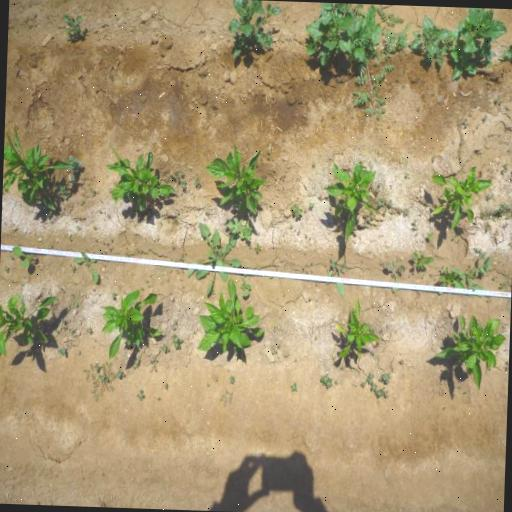plant: (430, 308, 508, 392), (2, 119, 67, 213), (195, 275, 265, 361), (104, 141, 176, 217), (202, 140, 267, 214), (323, 158, 377, 241), (99, 289, 163, 358), (428, 164, 492, 233), (0, 292, 57, 362), (332, 293, 382, 361)
weed: (350, 6, 415, 120), (298, 2, 382, 67), (446, 7, 506, 82), (186, 221, 242, 294), (218, 0, 282, 60), (407, 8, 451, 70), (450, 252, 493, 290), (83, 361, 117, 402), (326, 254, 350, 298), (73, 250, 100, 284), (226, 214, 254, 243), (438, 262, 465, 289), (60, 12, 84, 42), (384, 257, 404, 293), (12, 246, 34, 270), (410, 250, 434, 270), (499, 32, 512, 61), (66, 153, 82, 174), (239, 275, 252, 298), (218, 388, 233, 406), (371, 383, 389, 398), (319, 371, 333, 389), (172, 334, 184, 350), (290, 203, 302, 218), (496, 278, 511, 289), (498, 200, 508, 216), (378, 371, 390, 384), (474, 248, 485, 260), (134, 387, 144, 400), (374, 196, 384, 208), (56, 345, 66, 356), (365, 213, 376, 223), (132, 356, 140, 369), (115, 370, 125, 378), (288, 382, 296, 392), (366, 374, 374, 384), (426, 230, 434, 240), (228, 374, 235, 384), (180, 181, 187, 191), (502, 162, 508, 173), (62, 192, 70, 200), (70, 298, 78, 306), (110, 290, 118, 298), (150, 356, 158, 364), (254, 242, 260, 252), (172, 172, 178, 182), (194, 178, 200, 188), (463, 116, 469, 126), (58, 184, 65, 192), (160, 344, 168, 351), (270, 348, 277, 356), (410, 223, 418, 230), (68, 326, 74, 335), (68, 175, 75, 182), (97, 374, 104, 381), (74, 224, 81, 231), (88, 186, 94, 194), (94, 364, 100, 372), (308, 201, 314, 209), (310, 160, 316, 168), (402, 208, 408, 216), (484, 223, 490, 231), (388, 197, 392, 208), (178, 169, 184, 176), (359, 382, 366, 388), (370, 350, 376, 357), (372, 186, 379, 192), (380, 209, 386, 216), (482, 113, 488, 120), (503, 220, 508, 228), (268, 274, 274, 280), (486, 193, 492, 199), (2, 264, 7, 271), (266, 148, 269, 159), (272, 324, 276, 332), (334, 378, 338, 386), (86, 326, 91, 332), (211, 288, 216, 294), (340, 364, 346, 369), (399, 358, 404, 364), (491, 275, 497, 280), (460, 139, 464, 146), (510, 166, 512, 179), (376, 181, 381, 186), (164, 382, 168, 388), (172, 324, 176, 330), (362, 210, 368, 214), (494, 96, 498, 102), (71, 264, 74, 271), (107, 246, 112, 250), (156, 396, 160, 401), (412, 218, 416, 223), (384, 198, 388, 203), (277, 342, 280, 348), (404, 172, 408, 176), (488, 176, 492, 180), (92, 226, 96, 229), (140, 286, 144, 289), (308, 296, 311, 300), (108, 187, 110, 192), (62, 320, 64, 324)
